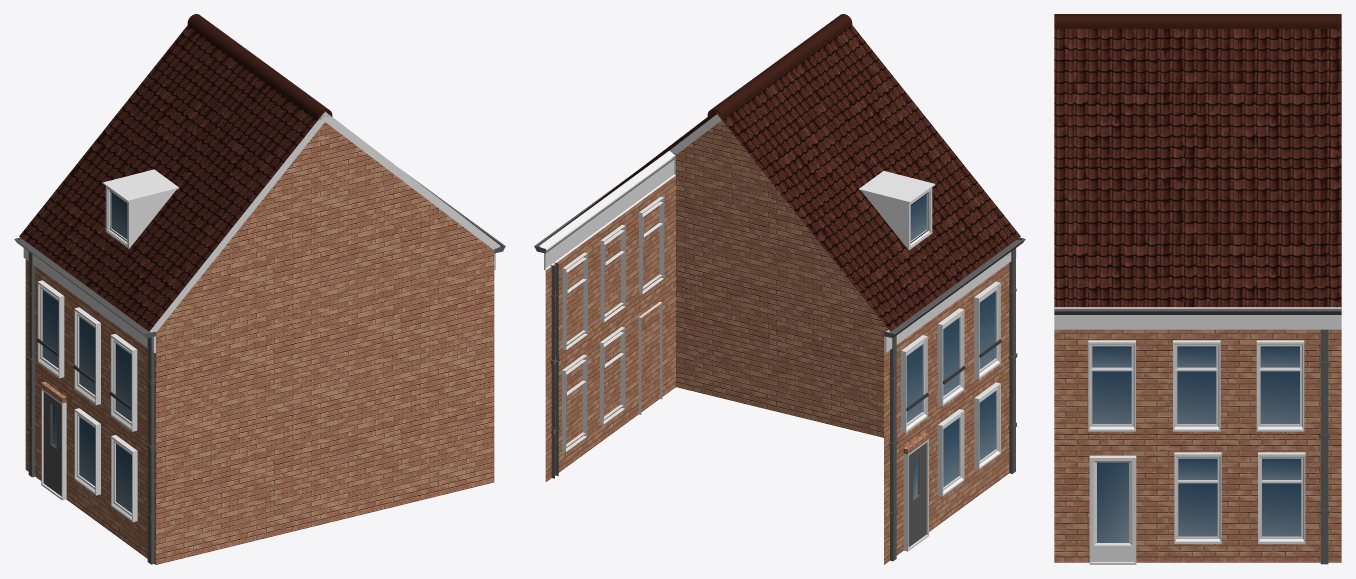
The model's file is It_Bûthús_19.fbx.
3 renders of one model, left to right at view 1: azimuth 30°, elevation 25°; view 2: azimuth 150°, elevation 25°; view 3: azimuth 270°, elevation 25°, orthographic. The views are drawn at different scales.
Visible parts, largest first — view 1: It_Bûthús_19; view 2: It_Bûthús_19; view 3: It_Bûthús_19.
Part boxes in pixels (x1,y1,x2,y2): It_Bûthús_19: [14, 14, 505, 564]; It_Bûthús_19: [534, 14, 1025, 564]; It_Bûthús_19: [1054, 14, 1341, 564].
Bounding box in the file's own units: 929 × 1018 × 580.
